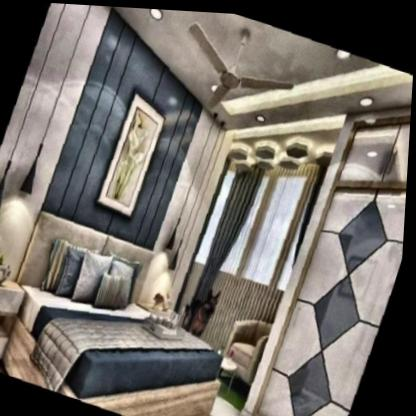Bed: (0, 209, 259, 416)
Frame: (89, 79, 178, 229)
Nightstand: (0, 264, 32, 368)
